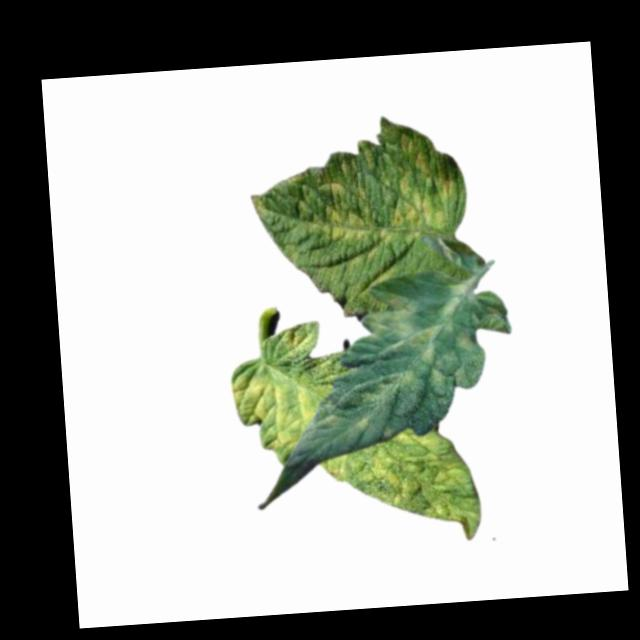Leaf_Mold: (243, 110, 466, 256), (320, 427, 488, 550), (353, 282, 475, 408), (228, 353, 321, 465)
